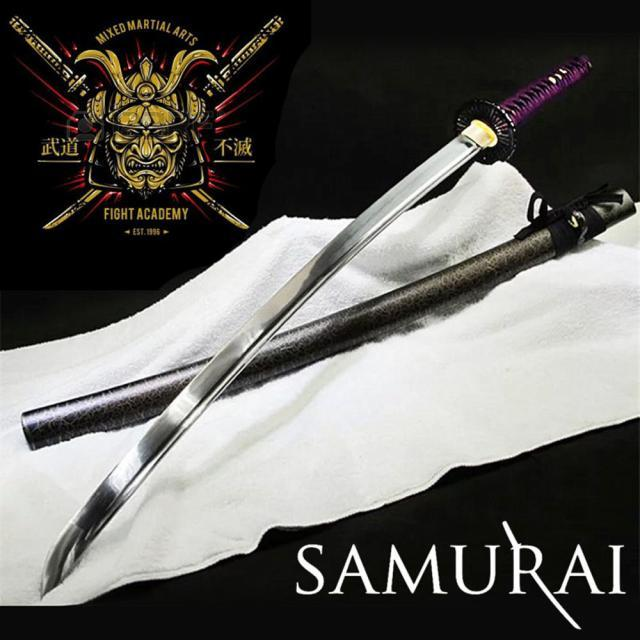long sword: (36, 58, 600, 602)
